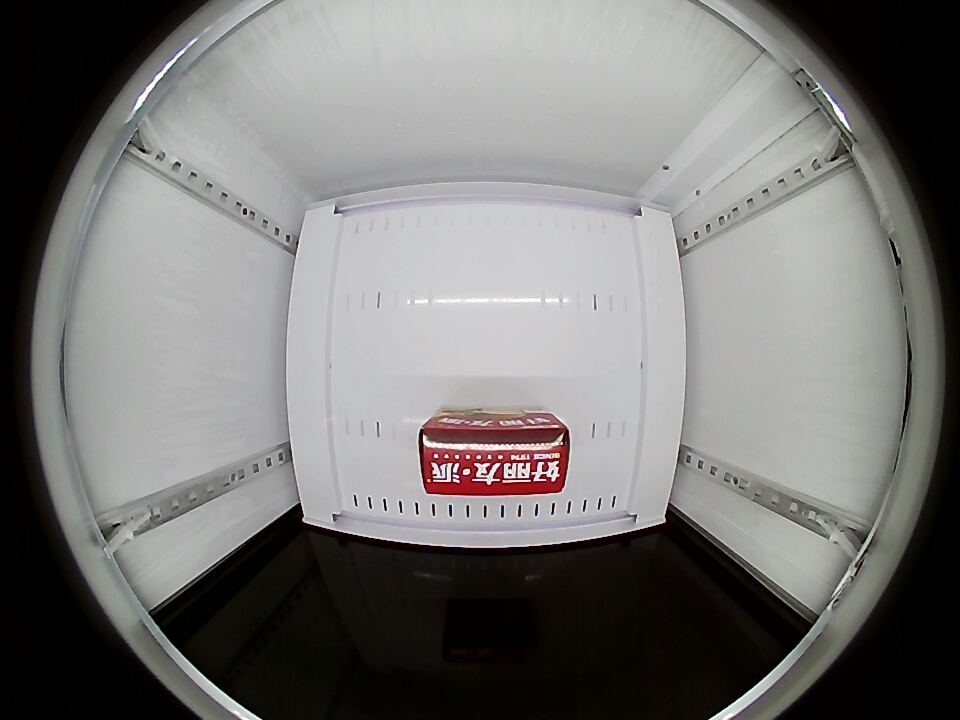haoliyou: (418, 412, 571, 498)
